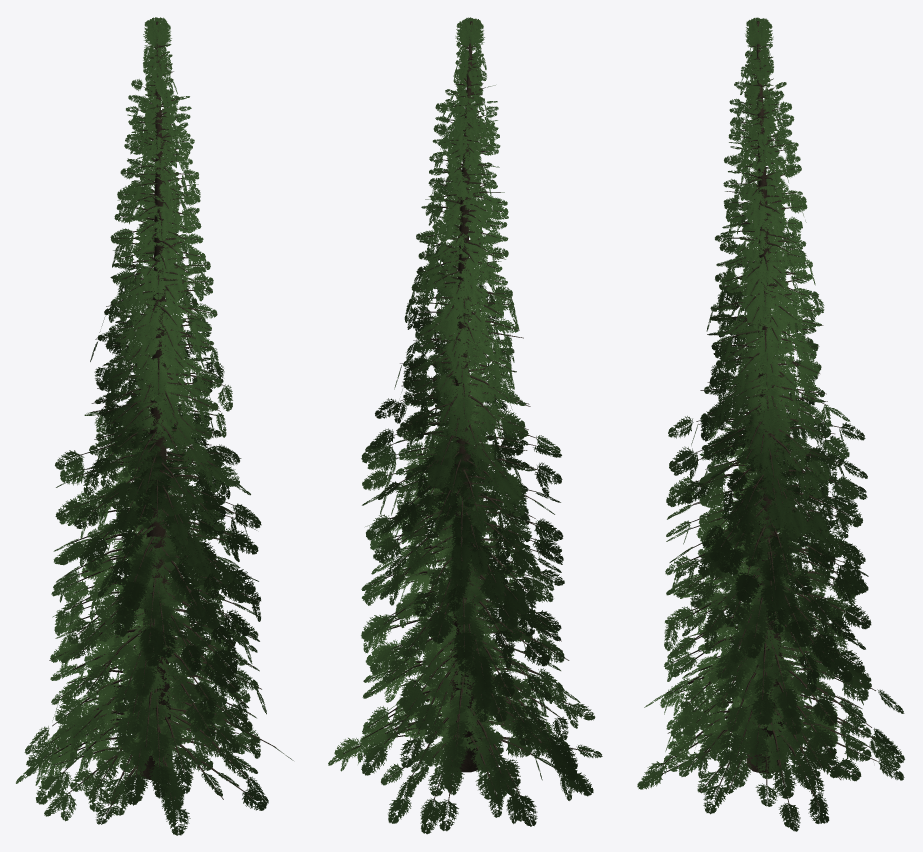
The model's file is spruce_conifer_v03_LOD1.fbx.
The picture shows the model from 3 angles, left to right: view 1: azimuth 30°, elevation 25°; view 2: azimuth 150°, elevation 25°; view 3: azimuth 270°, elevation 25°; orthographic projection.
Visible parts, largest first — view 1: spruce_conifer_v03_LOD1; view 2: spruce_conifer_v03_LOD1; view 3: spruce_conifer_v03_LOD1.
Boxes of the visible parts, bbox=[...] form: spruce_conifer_v03_LOD1: bbox=[16, 17, 293, 835]; spruce_conifer_v03_LOD1: bbox=[328, 17, 602, 834]; spruce_conifer_v03_LOD1: bbox=[637, 17, 904, 831].
Size of the model in its own units: 1116 by 1079 by 3307.
Materials: 2 (2 with a texture image).
